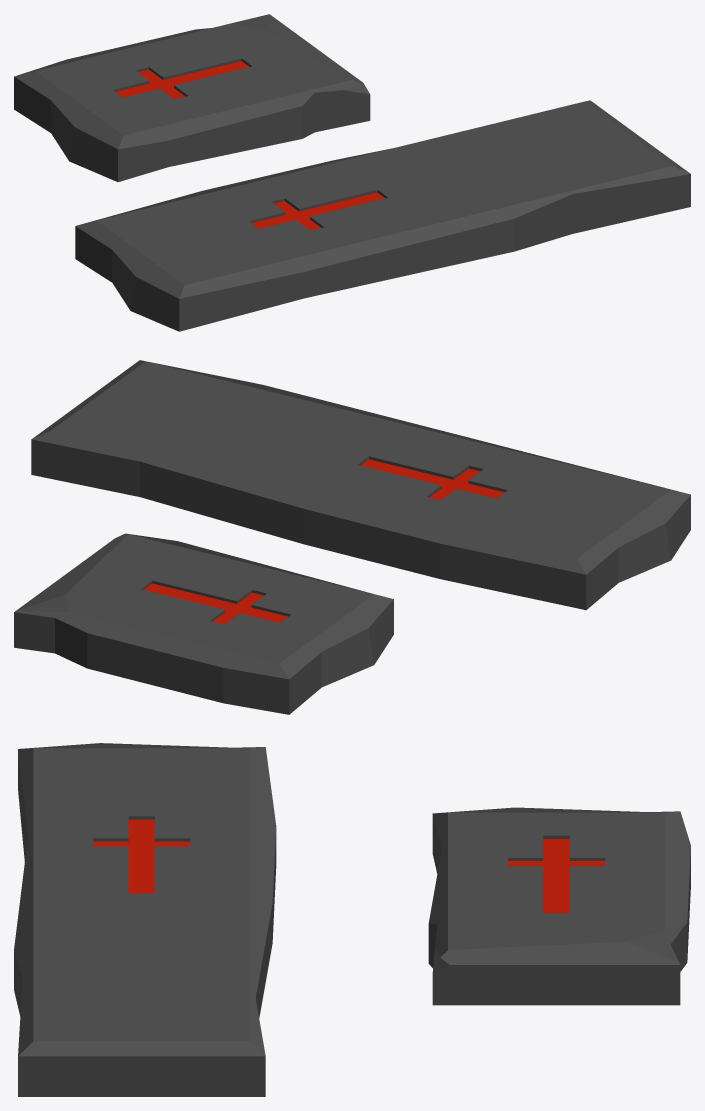
Rendered from GravesCollection.fbx.
3 renders of one model, top to bottom at view 1: azimuth 30°, elevation 25°; view 2: azimuth 150°, elevation 25°; view 3: azimuth 270°, elevation 25°, orthographic. The views are drawn at different scales.
Parts seen in each view (by area): view 1: Grave_long, Grave_short; view 2: Grave_long, Grave_short; view 3: Grave_long, Grave_short.
Part boxes in pixels (x1,y1,x2,y2): Grave_long: [75, 100, 690, 331]; Grave_short: [14, 14, 370, 182]; Grave_long: [31, 360, 690, 610]; Grave_short: [14, 533, 393, 714]; Grave_long: [14, 743, 276, 1096]; Grave_short: [428, 807, 690, 1005].
Bounding box in the file's own units: 605 × 547 × 43.61.
